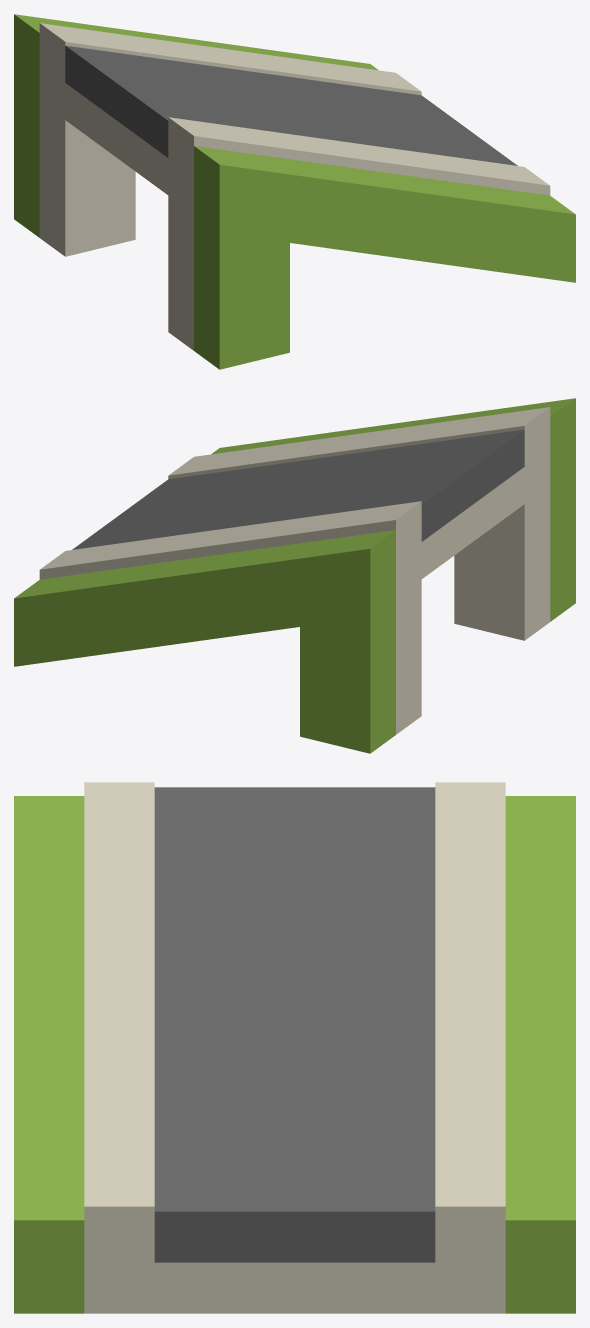
File: roadTile_180.fbx
3 views of the same model, one above another, from view 1: azimuth 30°, elevation 25°; view 2: azimuth 150°, elevation 25°; view 3: azimuth 270°, elevation 25° (orthographic). The views are drawn at different scales.
Visible parts, largest first — view 1: roadTile_180; view 2: roadTile_180; view 3: roadTile_180.
Part boxes in pixels (x1,y1,x2,y2): roadTile_180: (14, 14, 575, 369); roadTile_180: (14, 398, 575, 753); roadTile_180: (14, 782, 575, 1313).
Bounding box in the file's own units: 118 × 68.11 × 118.
